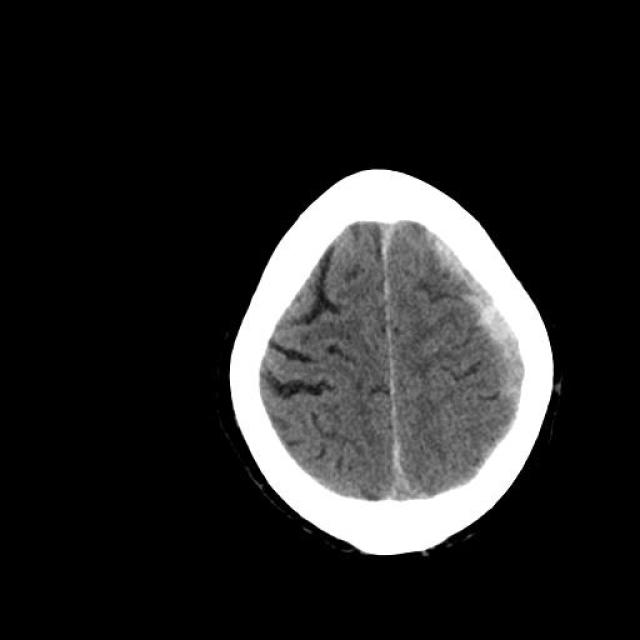Subdural: (421, 214, 569, 401)
